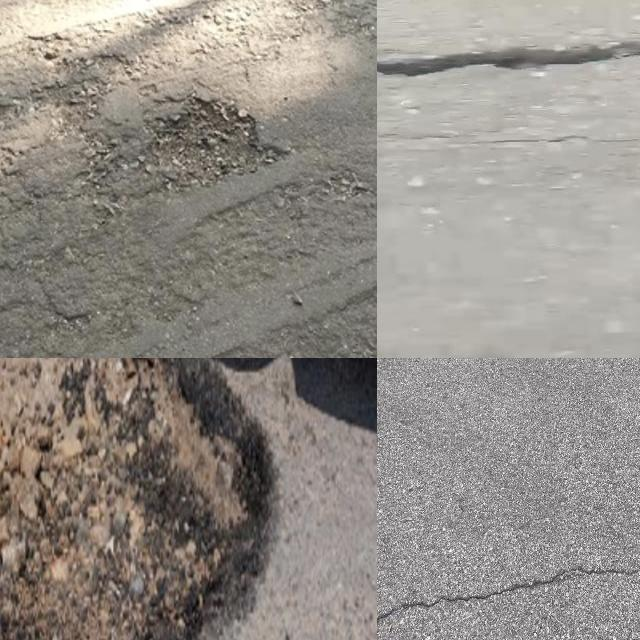Lubang: (0, 358, 267, 640), (139, 97, 286, 192)
Melintang: (377, 549, 640, 631), (377, 32, 640, 91)
